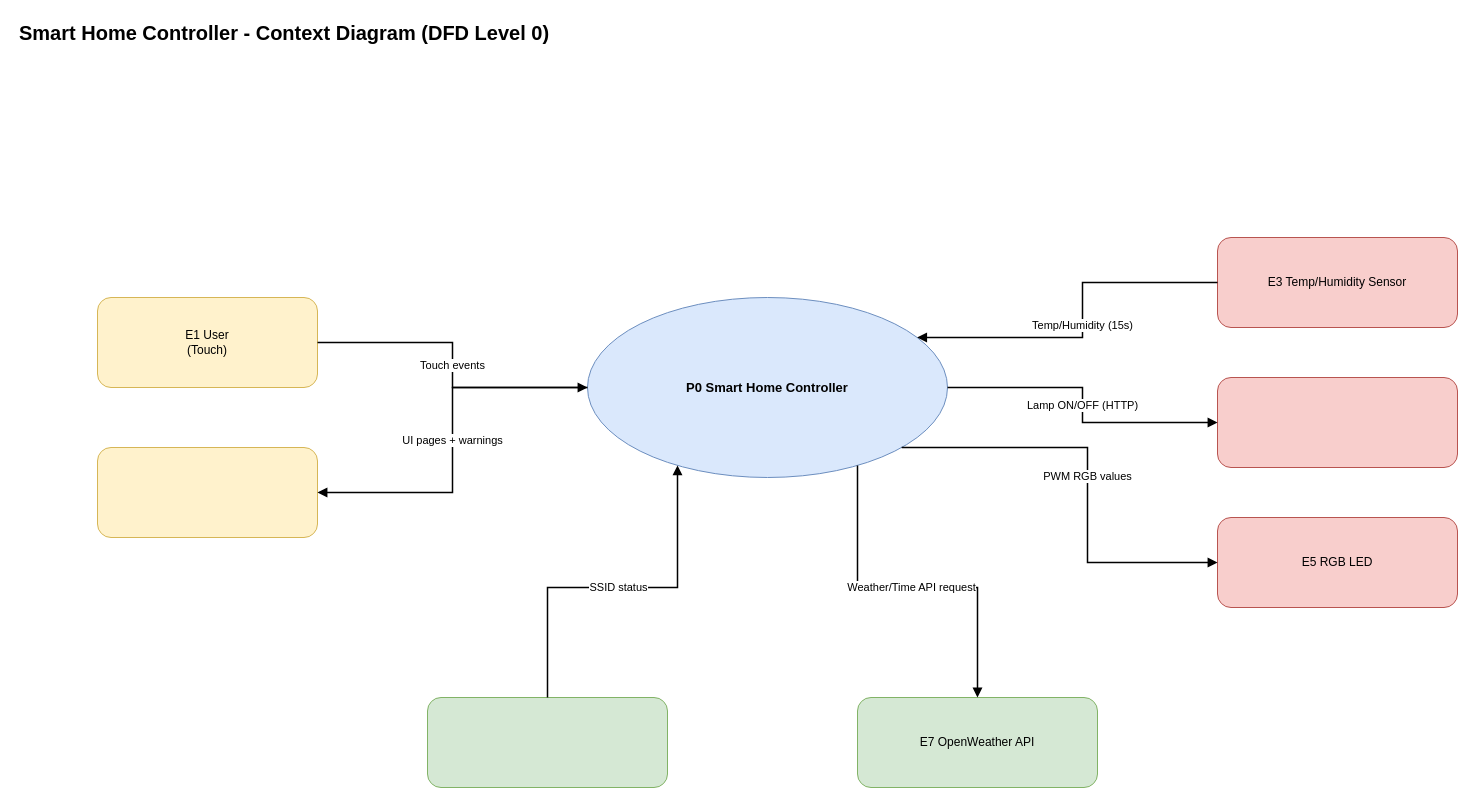
Some shapes in this 1475 by 805 pixel diagram are drawn without their labels. Here are the shapes that lost their labels. From the top down, the centre of each, then its label:
At [1337,422]: "E4 Shelly Lamp".
At [207,492]: "E2 Touch Display (ILI9844)".
At [547,742]: "E6 WLAN/Internet".
